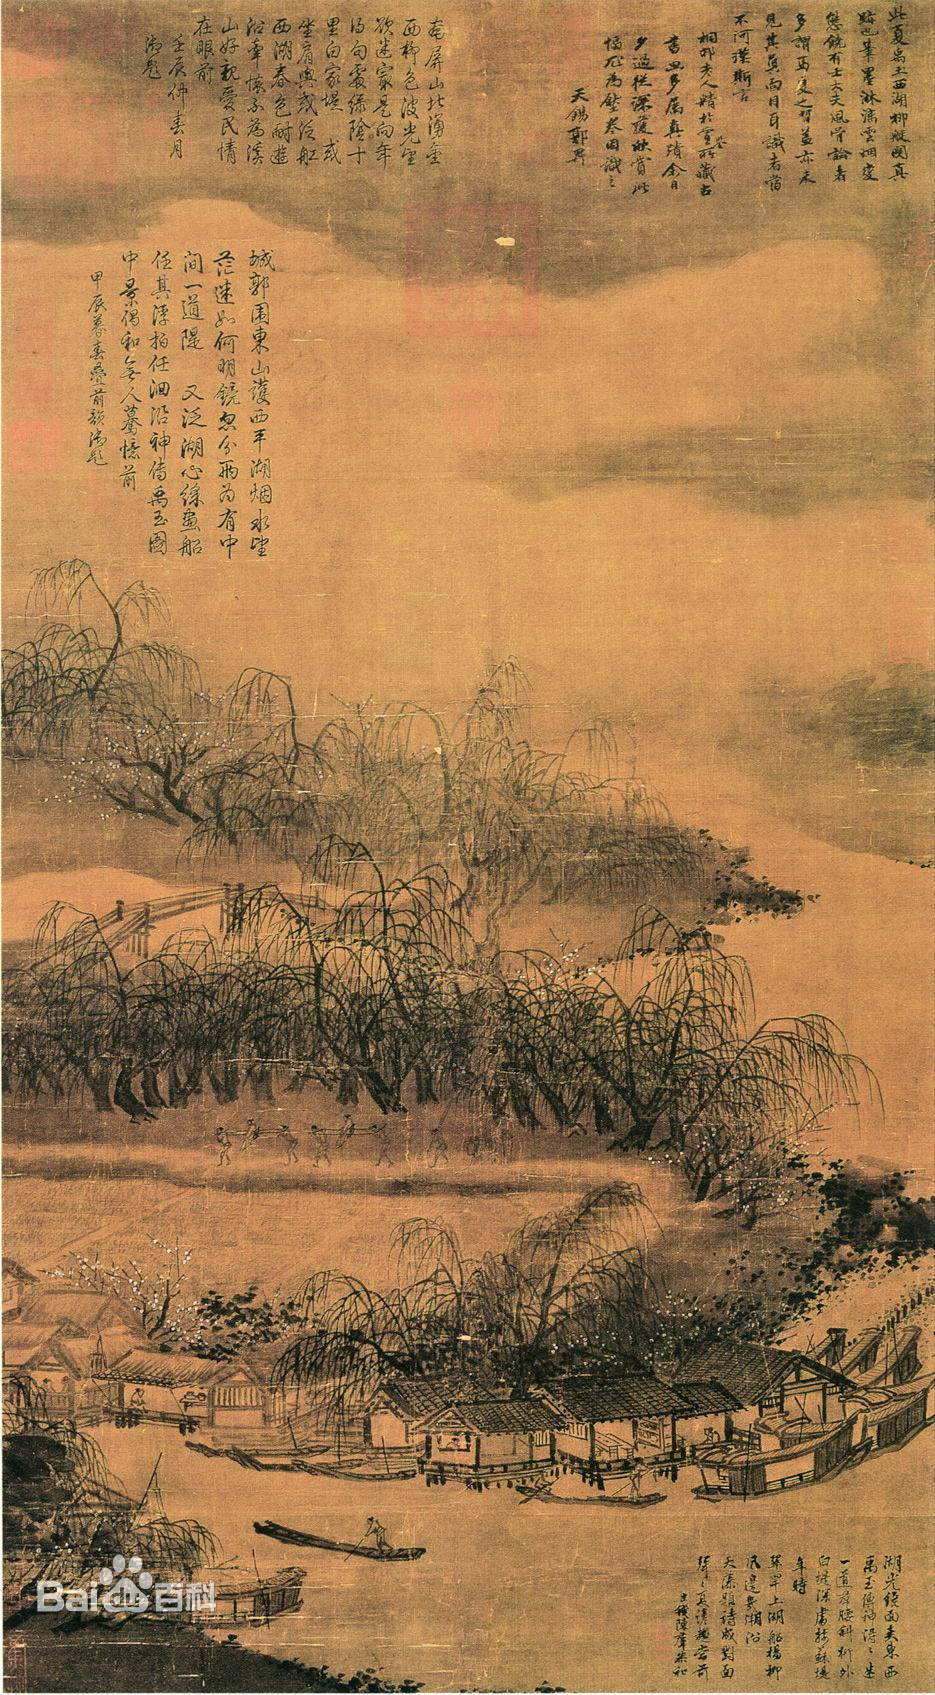boat: (684, 1414, 872, 1510), (251, 1499, 438, 1570), (121, 1570, 321, 1631), (772, 1386, 931, 1460), (516, 1471, 664, 1507), (226, 1447, 366, 1478), (855, 1329, 921, 1388), (824, 1316, 883, 1382), (291, 1459, 416, 1488), (186, 1438, 334, 1459), (798, 1319, 851, 1369)
bridge: (24, 868, 359, 997)
house: (2, 1261, 290, 1430), (525, 1375, 737, 1476), (25, 1449, 184, 1571), (684, 1328, 857, 1439), (419, 1397, 570, 1493), (366, 1373, 496, 1450)
man: (366, 1120, 395, 1169), (361, 1514, 394, 1553), (209, 1120, 232, 1172), (277, 1122, 302, 1167), (426, 1125, 450, 1169), (308, 1120, 329, 1168), (335, 1113, 360, 1154), (242, 1114, 257, 1161), (535, 1473, 557, 1498), (627, 1467, 642, 1500), (37, 1378, 61, 1398), (59, 1372, 72, 1403), (700, 1425, 720, 1446), (131, 1387, 144, 1408)
river: (117, 1434, 865, 1664)
table: (177, 1393, 213, 1416)
tree: (489, 909, 871, 1153), (322, 1174, 677, 1374), (30, 968, 502, 1105), (41, 639, 349, 830), (267, 738, 588, 880), (681, 1114, 770, 1239)
